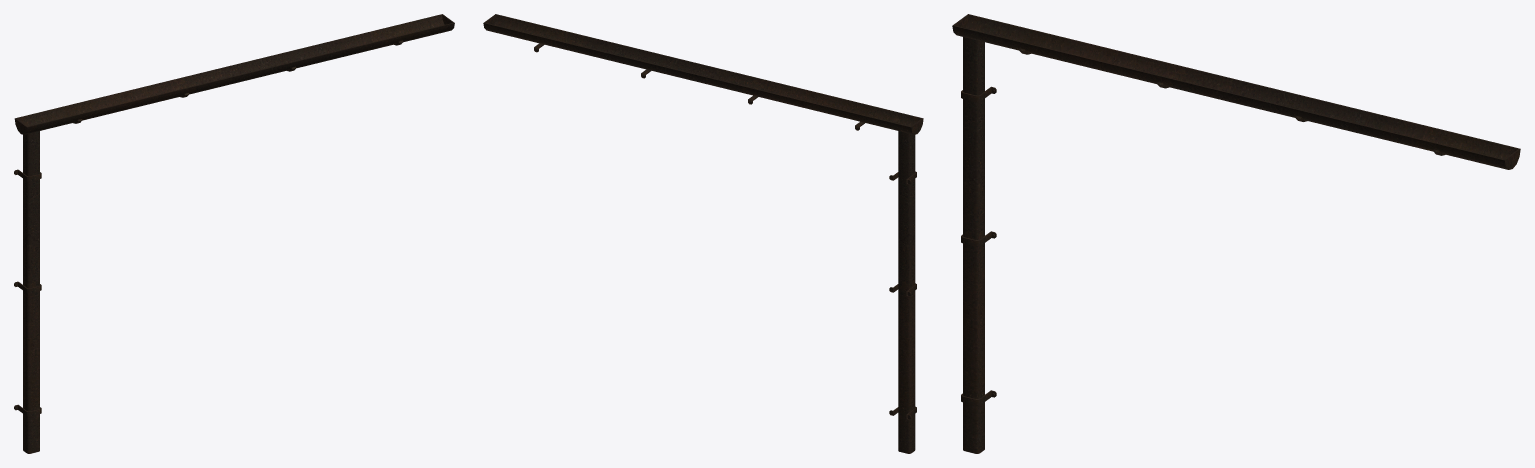
The model's file is rainwater_pipe_hl_1_singular.glb.
3 views of the same model, side by side, from view 1: azimuth 30°, elevation 25°; view 2: azimuth 150°, elevation 25°; view 3: azimuth 330°, elevation 25° (orthographic). The views are drawn at different scales.
Visible parts, largest first — view 1: rainwater_pipe_hl_1_singular; view 2: rainwater_pipe_hl_1_singular; view 3: rainwater_pipe_hl_1_singular.
Boxes of the visible parts, left/top/right/bottom form: rainwater_pipe_hl_1_singular: left=14, top=14, right=454, bottom=453; rainwater_pipe_hl_1_singular: left=483, top=14, right=923, bottom=453; rainwater_pipe_hl_1_singular: left=952, top=14, right=1520, bottom=453.
Bounding box in the file's own units: 4 × 2.95 × 0.21.
Materials: 1 (1 with a texture image).
